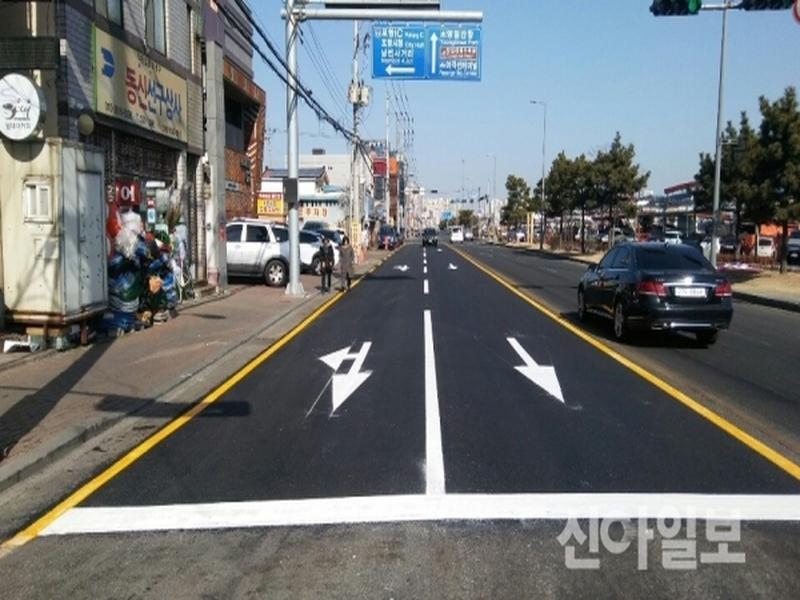car: (575, 242, 730, 341)
lane: (96, 326, 301, 486), (606, 348, 787, 463), (423, 309, 442, 490)
